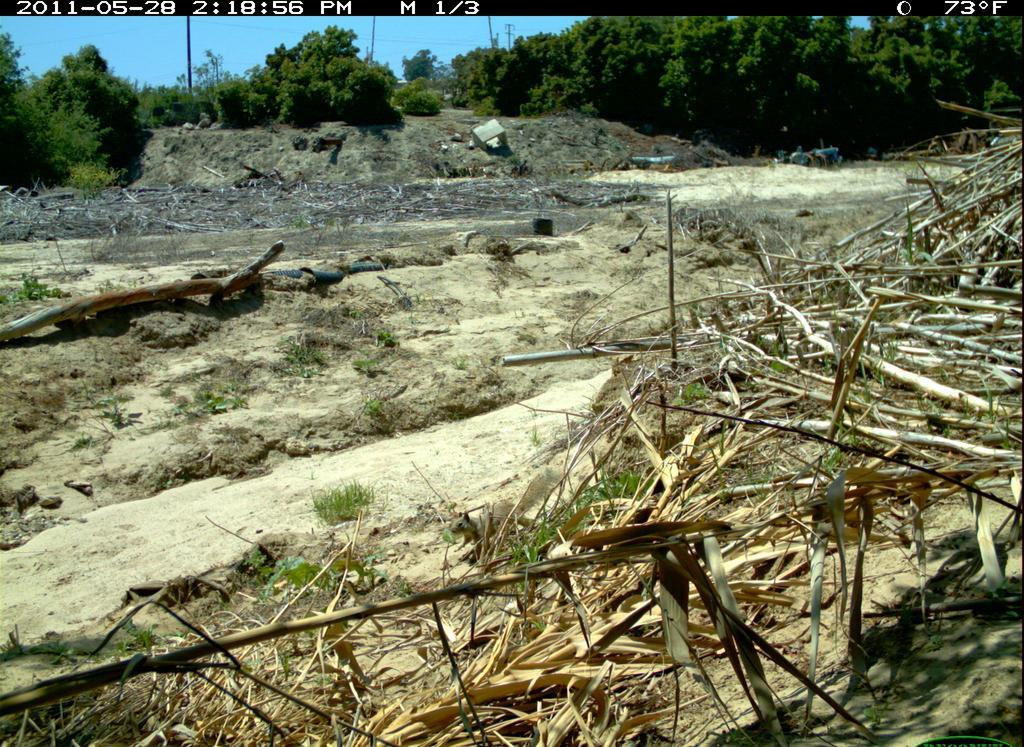squirrel: (455, 454, 574, 567)
